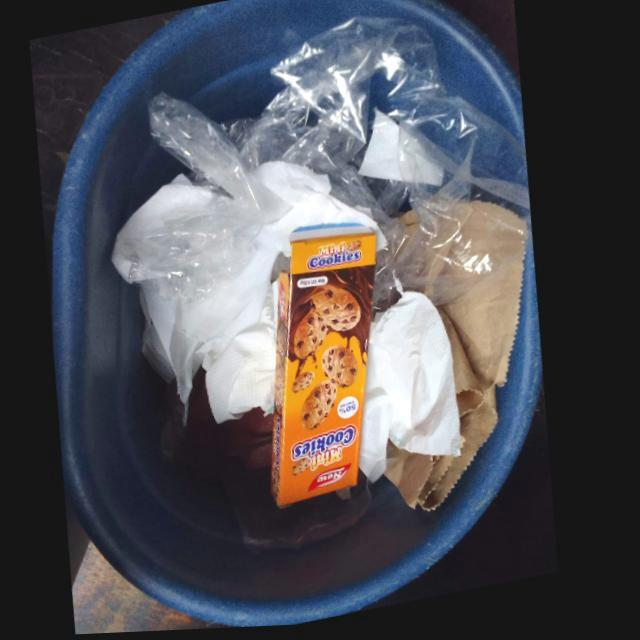cardboard: (276, 229, 382, 510)
paper: (116, 162, 381, 424), (392, 266, 529, 515), (367, 294, 473, 486)
